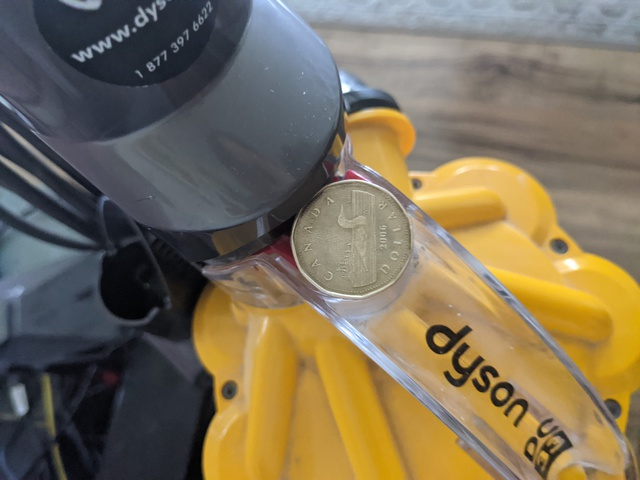loonie: (275, 160, 420, 291)
